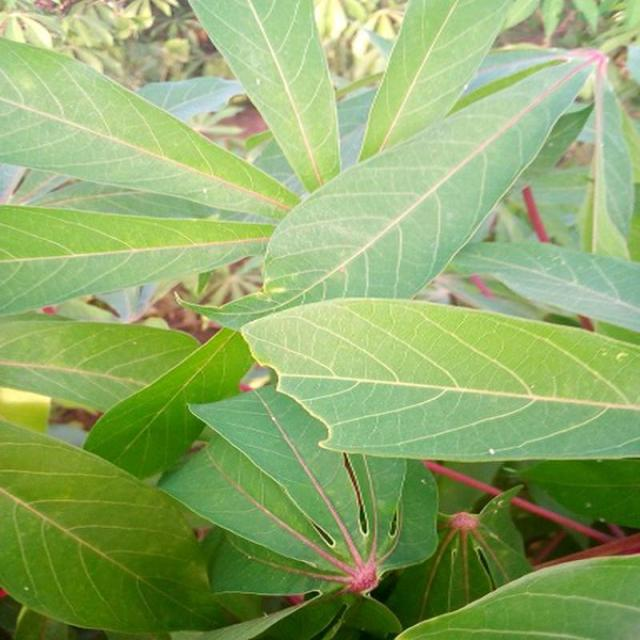cassava leaf: (2, 1, 638, 636), (260, 45, 602, 304), (242, 294, 640, 462)
